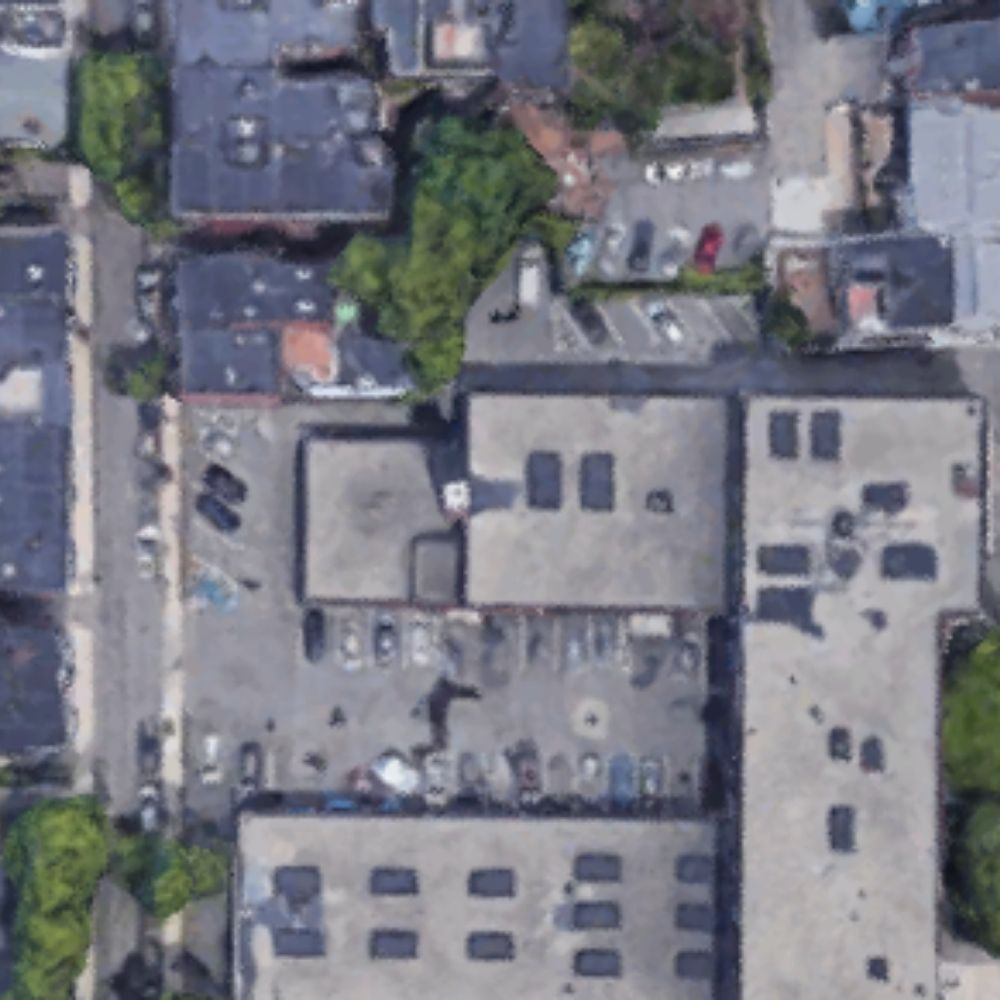parking: (180, 405, 730, 815), (470, 160, 765, 369)
